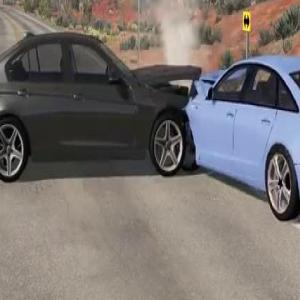negligible: (0, 21, 300, 221)
